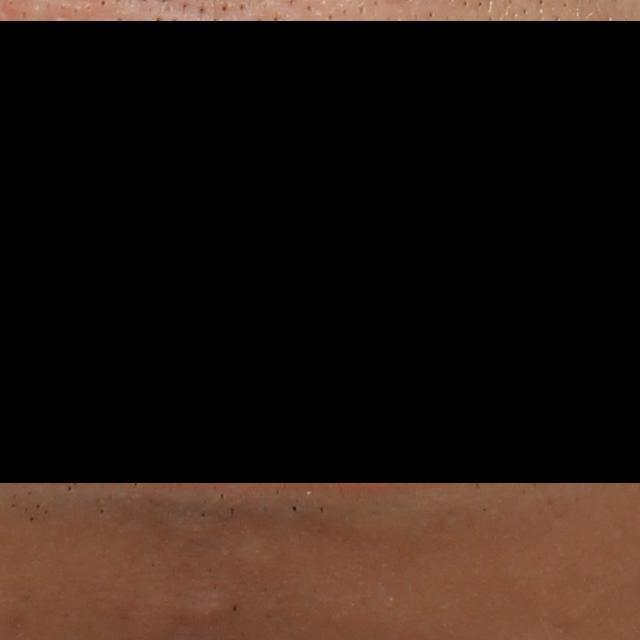hypertrophic_scar: (232, 530, 289, 570)
